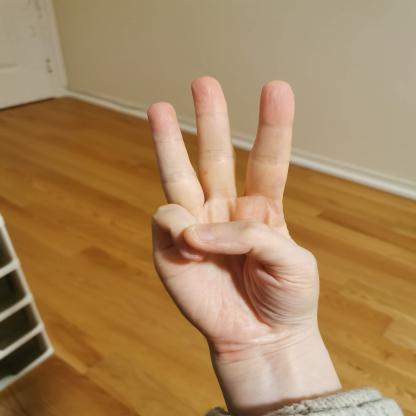six: (134, 71, 340, 362)
